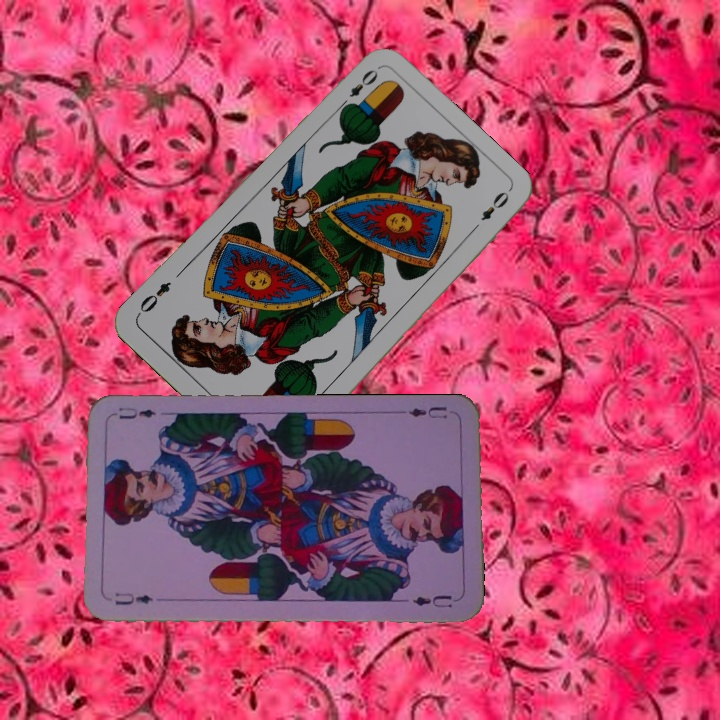EO: (335, 65, 381, 113)
EU: (404, 402, 449, 421), (111, 589, 156, 608)
